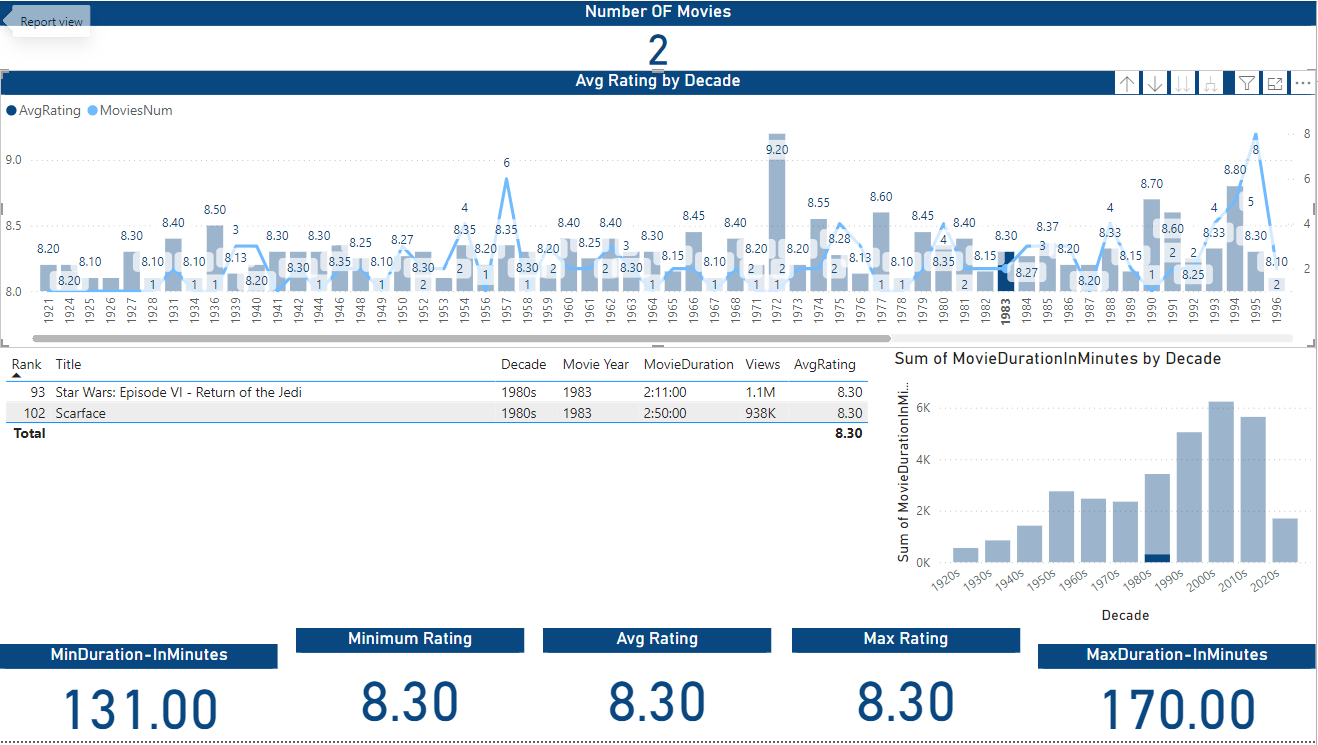

The page's visual inventory and layout, read from the dashboard file:
{"tool":"powerbi","page":{"name":"TOP250 Movies","canvas":[1280,720],"ordinal":0},"visuals":[{"type":"card","title":"Number OF Movies ","fields":{"Values":["TOP 250 Movies.MoviesNum"]},"box":[0,0,1280,67.1],"z":0},{"type":"card","title":"Avg Rating","fields":{"Values":["TOP 250 Movies.AvgRating"]},"box":[528.1,609.8,222,109.9],"z":0,"group":"g1"},{"type":"card","title":"MinDuration-InMinutes","fields":{"Values":["TOP 250 Movies.MinDuration-InMinutes"]},"box":[0,625,270.4,95],"z":0,"group":"g2"},{"type":"group","id":"g1","title":"Group 1","box":[287.9,609.8,704.2,109.9],"z":1000},{"type":"card","title":"Max Rating","fields":{"Values":["TOP 250 Movies.MaxRating"]},"box":[770.3,609.8,221.8,109.9],"z":1000,"group":"g1"},{"type":"card","title":"Minimum Rating","fields":{"Values":["TOP 250 Movies.MinRating"]},"box":[287.9,609.8,221.8,109.9],"z":2000,"group":"g1"},{"type":"group","id":"g2","title":"Group 2","box":[0,625,1280,95],"z":2000},{"type":"card","title":"MaxDuration-InMinutes","fields":{"Values":["TOP 250 Movies.MaxDuration-InMinutes"]},"box":[1009.6,625,270.4,95],"z":2000,"group":"g2"},{"type":"lineStackedColumnComboChart","title":"Avg Rating by Decade","fields":{"Category":["TOP 250 Movies.Decade","TOP 250 Movies.Movie Year"],"Y":["TOP 250 Movies.AvgRating"],"Y2":["TOP 250 Movies.MoviesNum"]},"box":[0,67.1,1280,270.4],"z":3000},{"type":"tableEx","fields":{"Values":["TOP 250 Movies.Rank","TOP 250 Movies.Title","TOP 250 Movies.Decade","TOP 250 Movies.Movie Year","TOP 250 Movies.MovieDurationTime","TOP 250 Movies.Views","TOP 250 Movies.AvgRating"]},"box":[0,337.5,864.7,265.5],"z":4000},{"type":"lineStackedColumnComboChart","fields":{"Y":["Sum(TOP 250 Movies.MovieDurationInMinutes)"],"Category":["TOP 250 Movies.Decade","TOP 250 Movies.Movie Year"]},"box":[864.7,337.5,415.3,272.3],"z":5000}]}

Visuals, with their boxes on the page's 1280x720 design canvas (x1, y1, x2, y2). These are canvas units, not pixel positions in the 1318x745 screenshot, which may show the page scaled, cropped or inside an application window:
"Number OF Movies " card: [0, 0, 1280, 67]
"Avg Rating" card: [528, 610, 750, 720]
"MinDuration-InMinutes" card: [0, 625, 270, 720]
"Group 1" group: [288, 610, 992, 720]
"Max Rating" card: [770, 610, 992, 720]
"Minimum Rating" card: [288, 610, 510, 720]
"Group 2" group: [0, 625, 1280, 720]
"MaxDuration-InMinutes" card: [1010, 625, 1280, 720]
"Avg Rating by Decade" lineStackedColumnComboChart: [0, 67, 1280, 338]
tableEx - TOP 250 Movies.Rank x TOP 250 Movies.Title: [0, 338, 865, 603]
lineStackedColumnComboChart - Sum(TOP 250 Movies.MovieDurationInMinutes) x TOP 250 Movies.Decade: [865, 338, 1280, 610]
